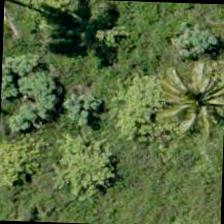Kelapa_Sawit: (151, 61, 223, 154)
